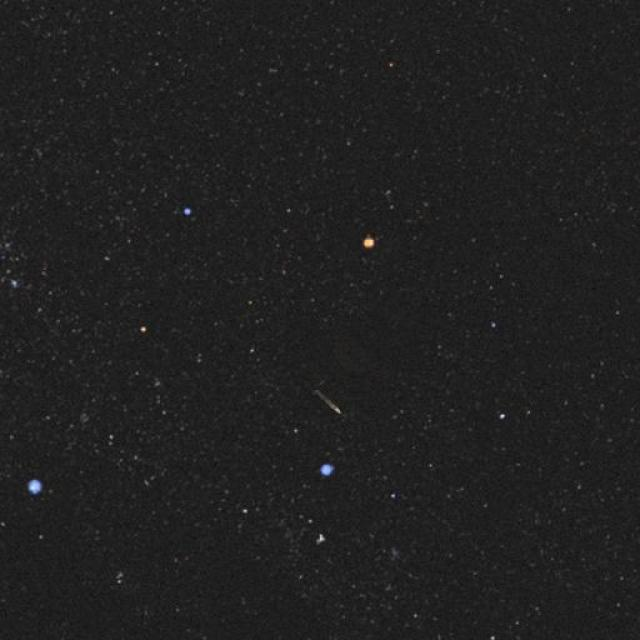soho: (252, 304, 397, 494)
